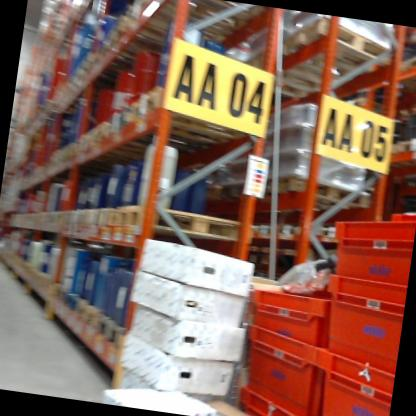pallet: (126, 66, 277, 157), (278, 13, 407, 88), (240, 165, 377, 225), (117, 191, 244, 251), (126, 0, 257, 57), (252, 213, 315, 250), (94, 314, 126, 353), (396, 38, 416, 95), (308, 218, 346, 247), (392, 125, 416, 170)
small_load_carrier: (316, 268, 407, 380), (233, 313, 327, 416), (321, 193, 415, 285), (244, 262, 334, 348), (312, 346, 394, 416), (233, 384, 313, 416)
